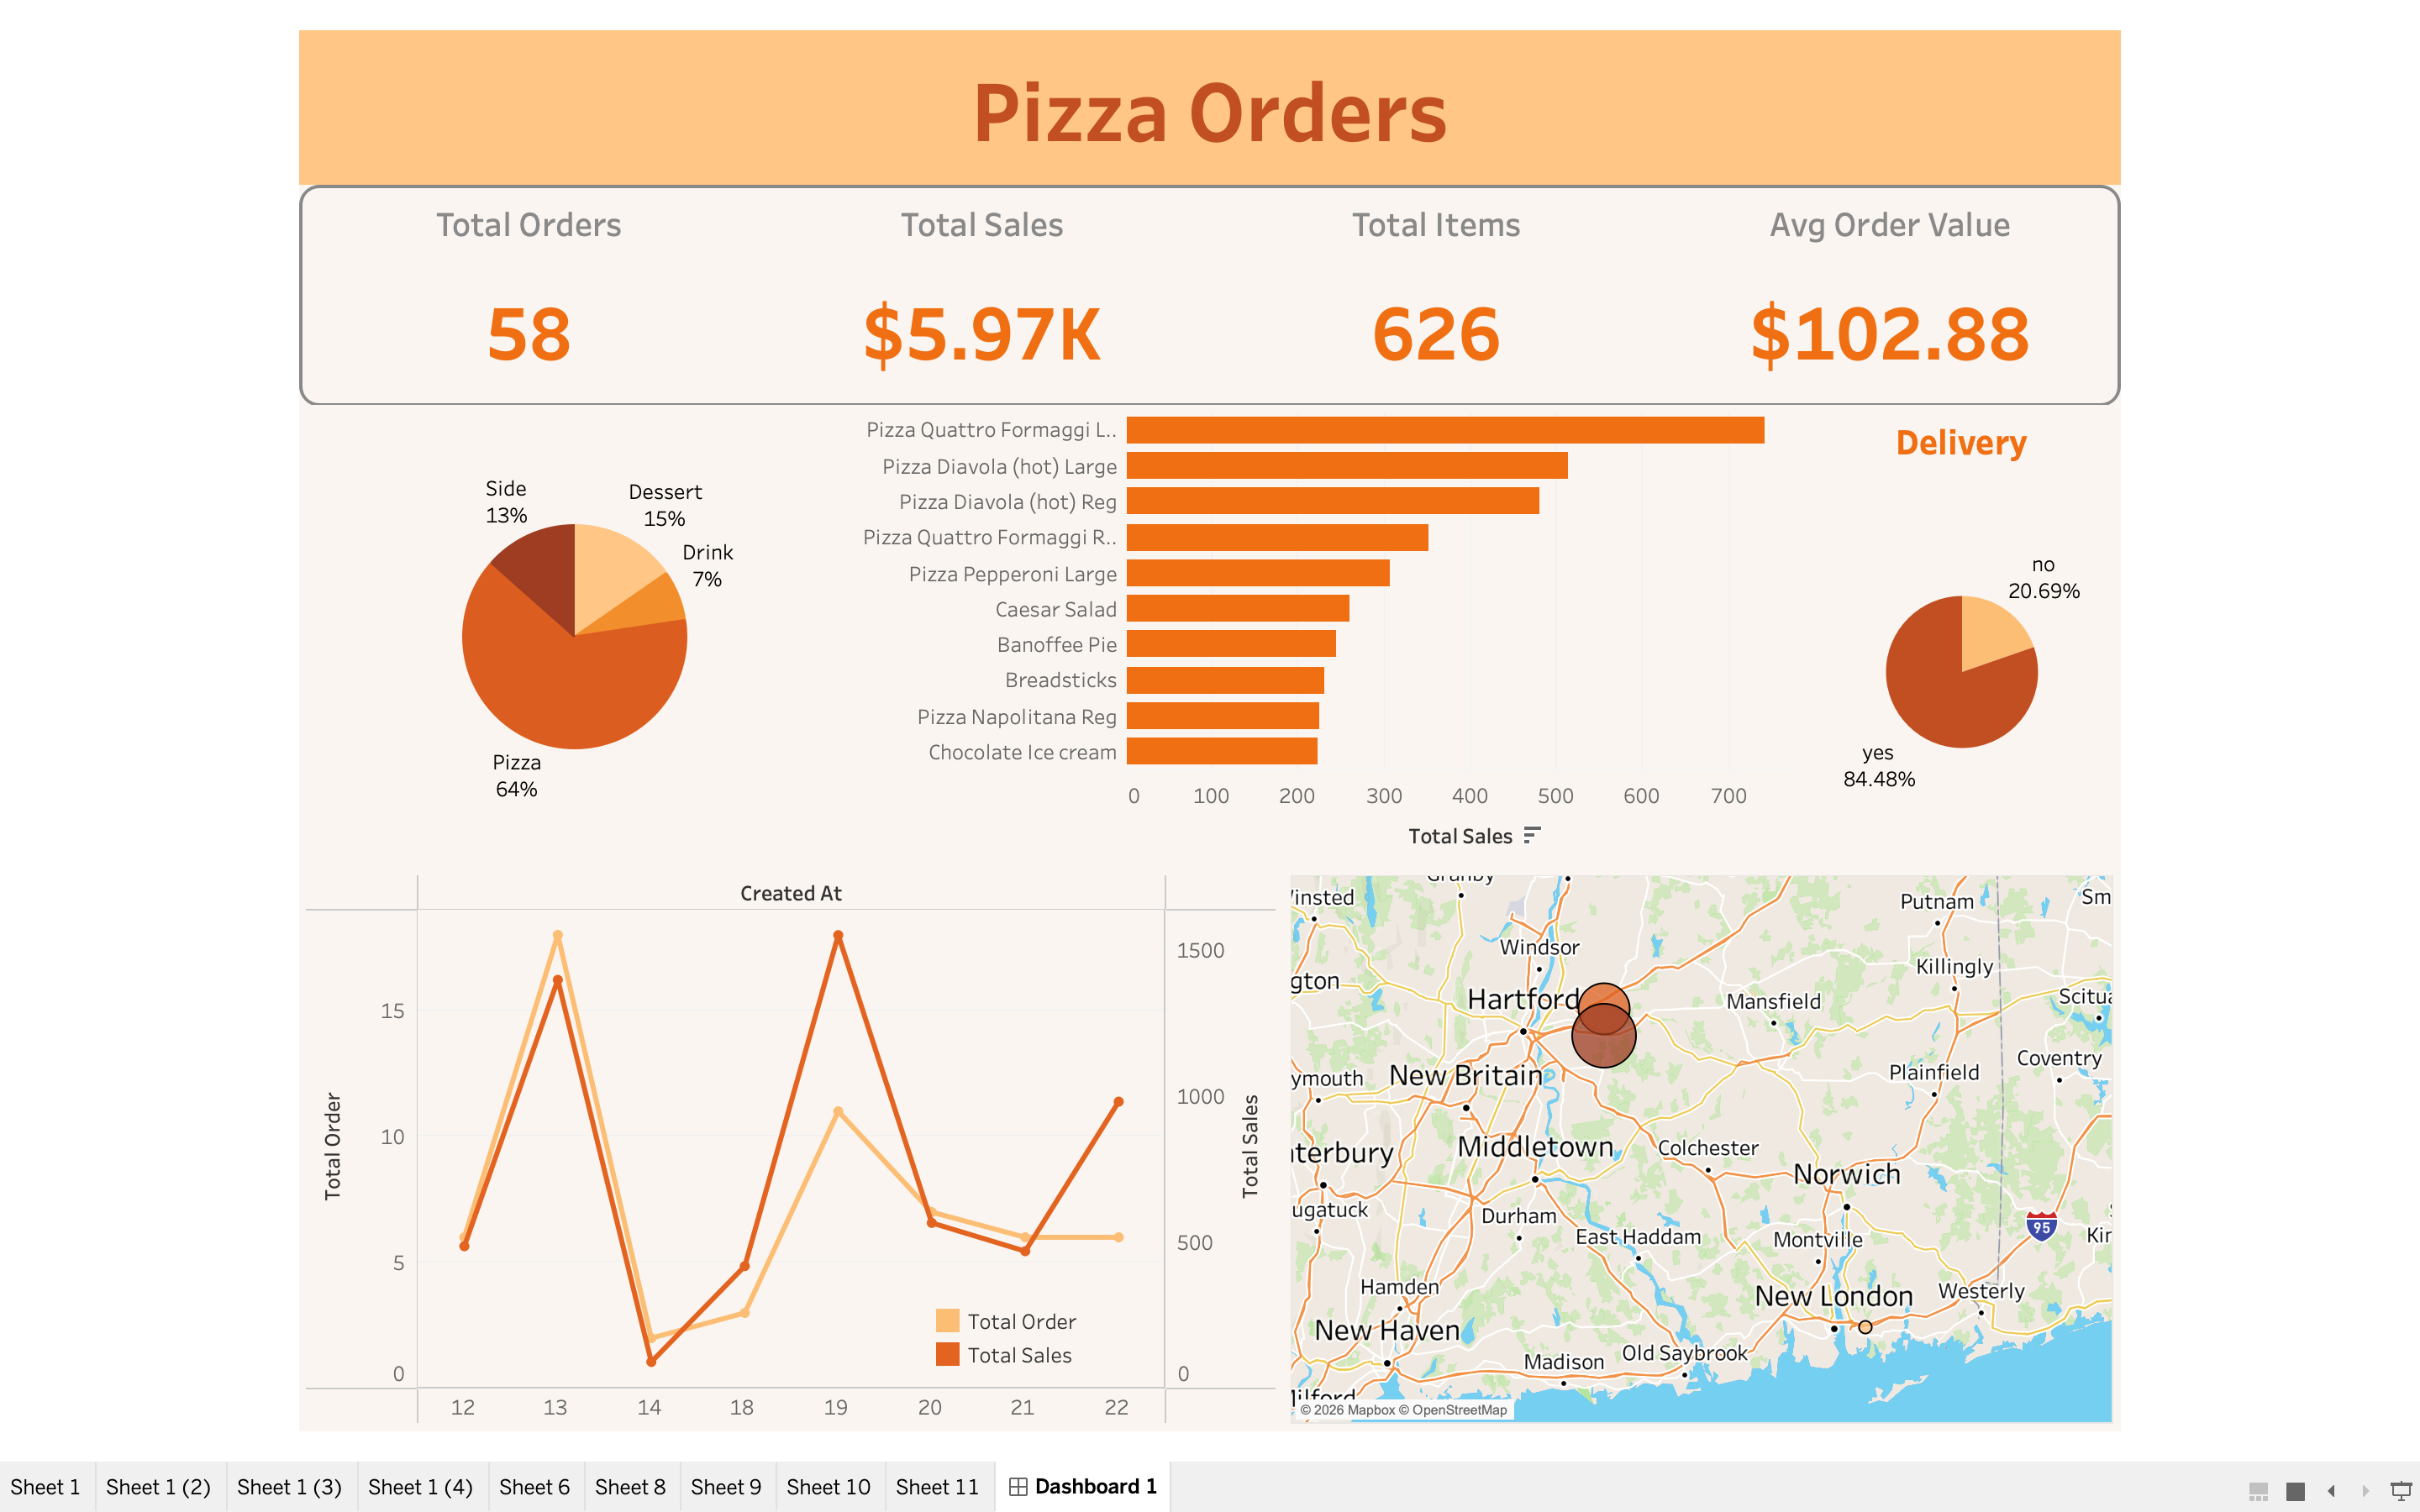

What the dashboard file says about the page in this screenshot:
{"tool":"tableau","page":{"name":"Dashboard 1","canvas":[1100,850],"ordinal":0},"visuals":[{"type":"text","box":[8,8,1084,91.6]},{"type":"worksheet","title":"Sheet 1","mark":"Automatic","box":[10,101.6,270,127.6]},{"type":"worksheet","title":"Sheet 1 (2)","mark":"Automatic","box":[280,101.6,270,127.6]},{"type":"worksheet","title":"Sheet 1 (3)","mark":"Automatic","box":[550,101.6,270,127.6]},{"type":"worksheet","title":"Sheet 1 (4)","mark":"Automatic","box":[820,101.6,270,127.6]},{"type":"worksheet","title":"Sheet 6","mark":"Pie","box":[8,231.2,328,275.9]},{"type":"worksheet","title":"Sheet 9","mark":"Automatic","rows":["item_name"],"cols":["Calculation_1859504989532161"],"box":[336,231.2,567,275.9]},{"type":"worksheet","title":"Sheet 8","mark":"Pie","box":[903,231.2,189,275.9]},{"type":"worksheet","title":"Sheet 10","mark":"Automatic","rows":["order_id","Calculation_1859504989532161"],"cols":["created_at"],"box":[8,507.1,586,334.9]},{"type":"worksheet","title":"Sheet 11","mark":"Circle","box":[594,507.1,498,334.9]},{"type":"legend","title":"Sheet 10","param":"[federated.0a5e75m03qmhl6171ds3r0yvuaxe].[:Measure Names]","box":[383.7,765.8,160.1,42.1]}]}

Visuals, with their boxes in screenshot pixels (x1, y1, x2, y2):
text: x1=544 y1=20 x2=2419 y2=181
"Sheet 1" worksheet: x1=547 y1=185 x2=1021 y2=408
"Sheet 1 (2)" worksheet: x1=1021 y1=185 x2=1495 y2=408
"Sheet 1 (3)" worksheet: x1=1495 y1=185 x2=1968 y2=408
"Sheet 1 (4)" worksheet: x1=1968 y1=185 x2=2419 y2=408
"Sheet 6" worksheet (Pie marks): x1=544 y1=412 x2=1119 y2=896
"Sheet 9" worksheet: x1=1119 y1=412 x2=2114 y2=896
"Sheet 8" worksheet (Pie marks): x1=2114 y1=412 x2=2419 y2=896
"Sheet 10" worksheet: x1=544 y1=896 x2=1571 y2=1483
"Sheet 11" worksheet (Circle marks): x1=1571 y1=896 x2=2419 y2=1483
"Sheet 10" legend: x1=1202 y1=1350 x2=1484 y2=1424
